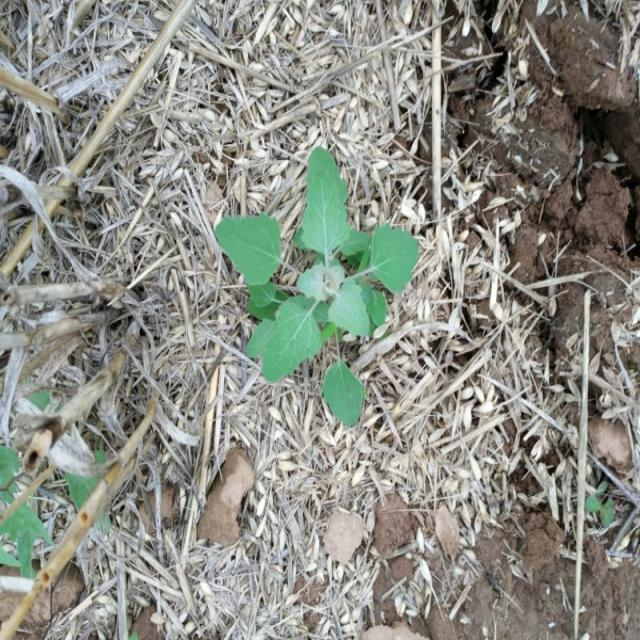goosefoots: (210, 128, 413, 452)
